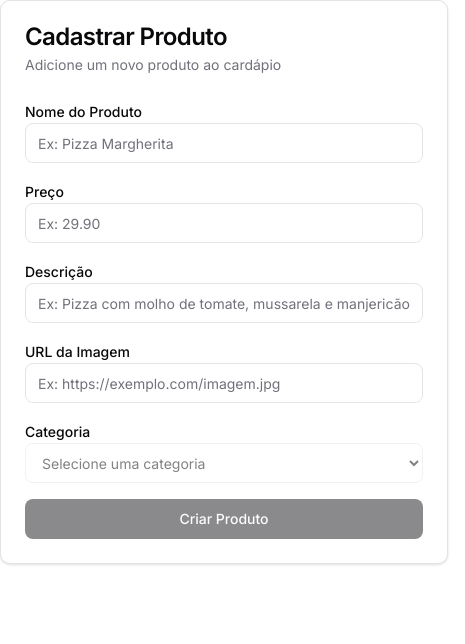
RF03 - Funcionalidade de Gerenciamento de Produtos › Cenário 2: Validação de campos obrigatórios › deve exibir erro quando preço está vazio
The image size is (465, 644).
Expected: the button "Criar Produto" is shown, [25,499,423,539]
Type "Produto Teste" into the field labelled "Nome do Produto" at x=224, y=143, box [25,123,423,163]
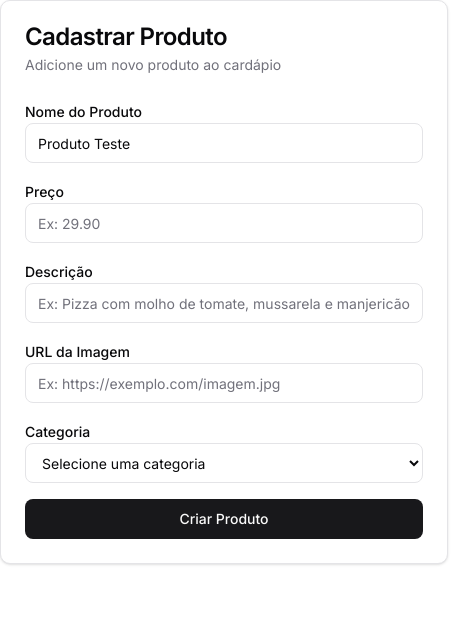
Click the button "Criar Produto" at x=224, y=519, box [25,499,423,539]
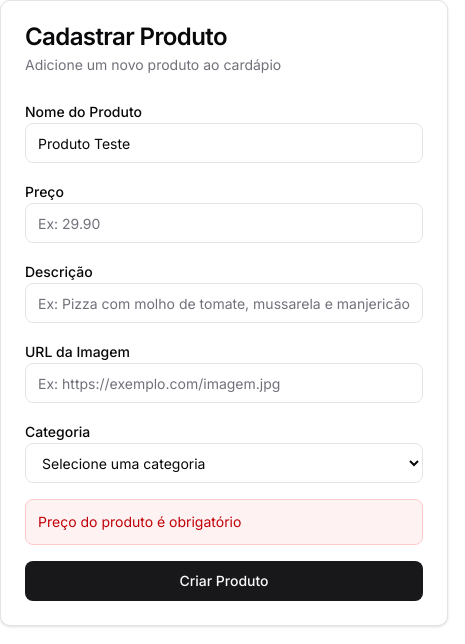
Expected: the text "Preço do produto é obrigatório" is shown, [25,499,423,545]
